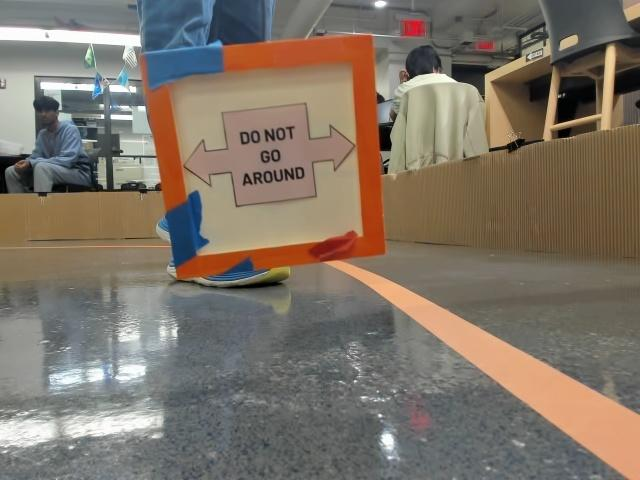Do Not Go Around: (177, 118, 348, 214)
